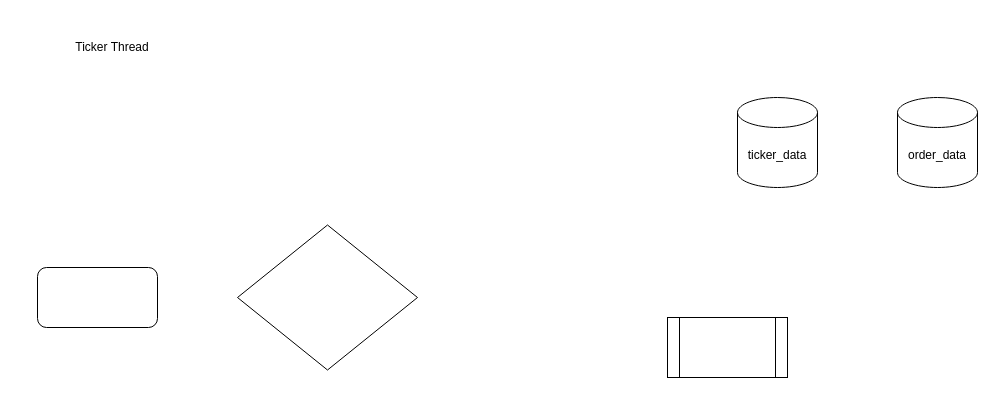
Image size: 995x395. Some labels were removed from this diagram. Each missing label, with the box of its shape:
Check if the current time is between market hours (9 am to 4pm): (236, 224, 418, 370)
START: (36, 266, 158, 328)
